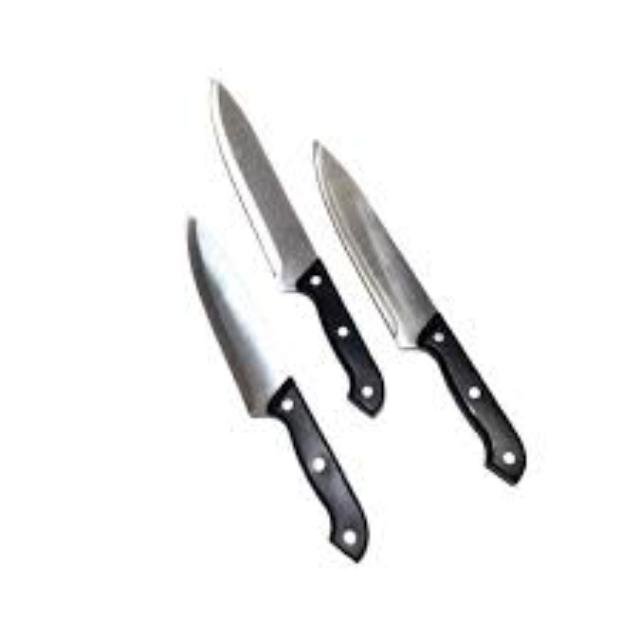knife: (310, 136, 526, 484), (182, 214, 366, 560), (204, 77, 383, 415)
